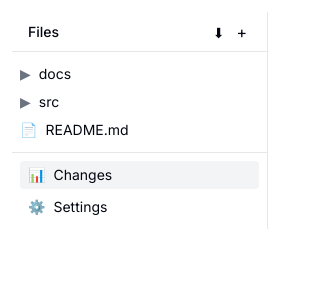
Scenario: Sidebar › expands directory when clicked
Expected: the text "guide.md" is not shown
Click to expand
Click the text "docs" at (55, 74), box [39,64,71,84]
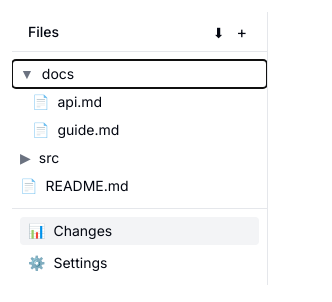
Result: the text "guide.md" is shown at [58,121,119,138]
Result: the text "api.md" is shown at [58,93,102,110]
